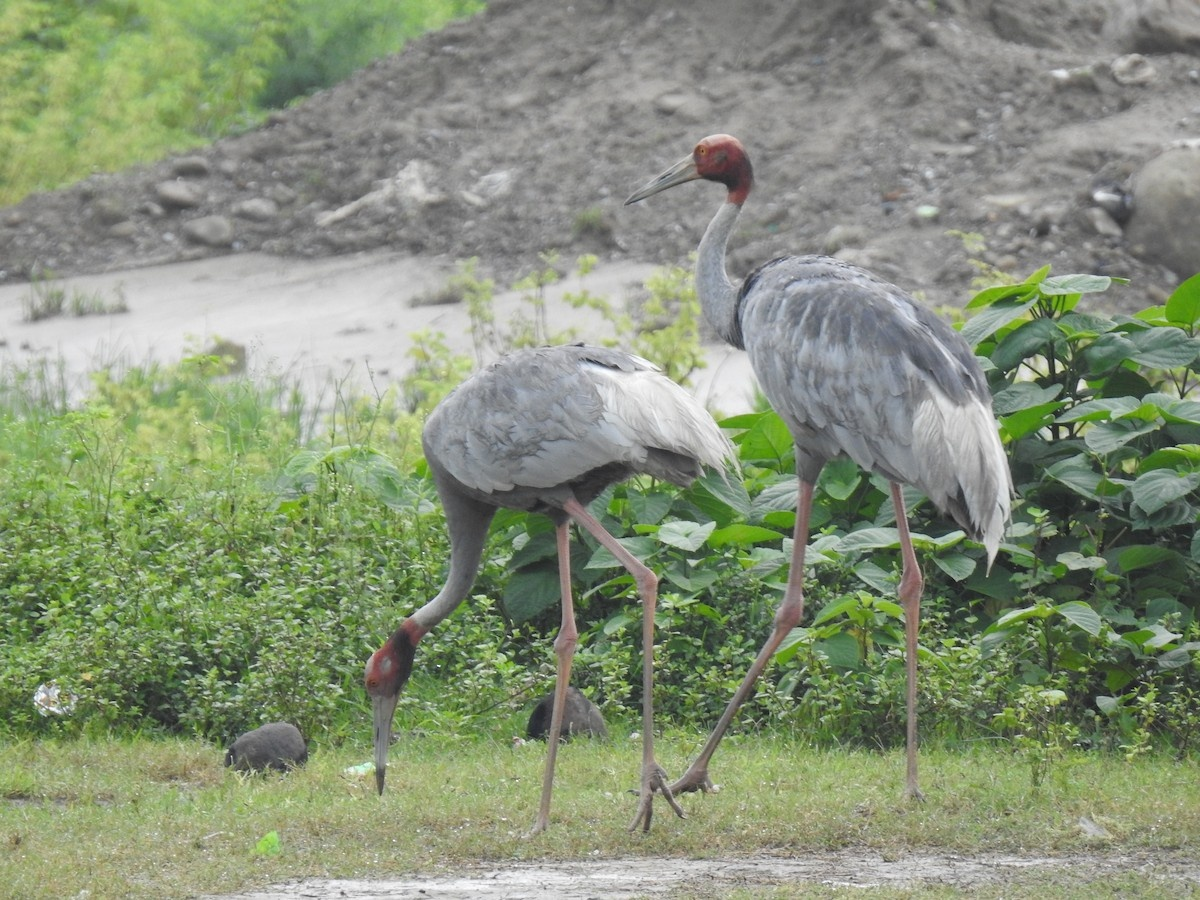crane: (620, 130, 1017, 818), (349, 310, 759, 837)
